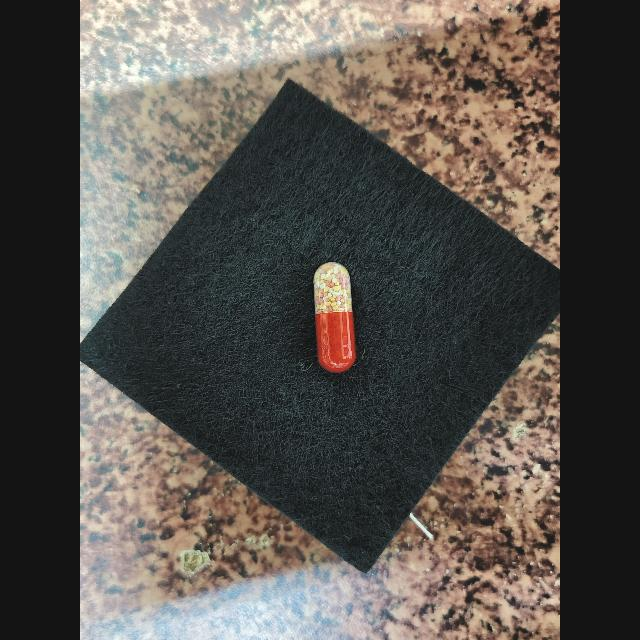Intact Capsule: (313, 262, 356, 373)
